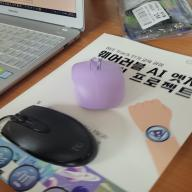mouse: (1, 104, 99, 168), (70, 57, 126, 112)
